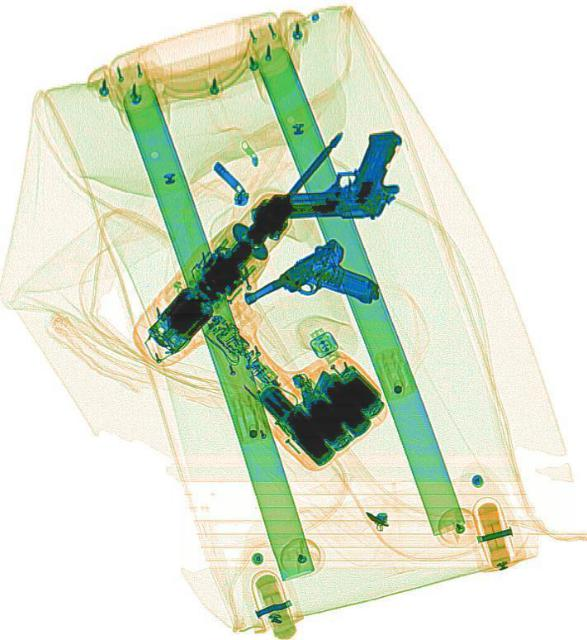Gun: (237, 228, 382, 356), (265, 128, 402, 220)
